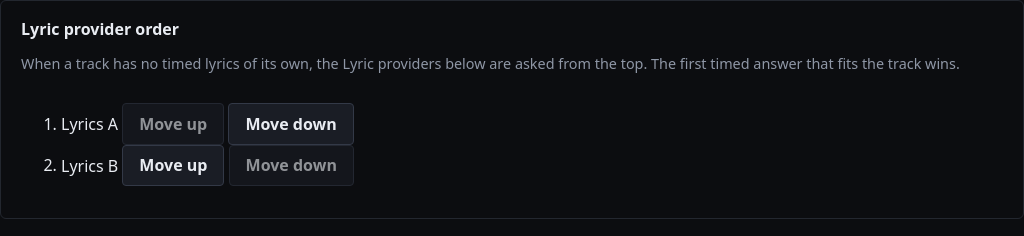
Test: LyricProviderOrder › moves a provider up and saves the whole order
Click the button with test id "lyric-order-up-lrc-b": [173, 165] box top-left (122, 144), bottom-right (224, 186)
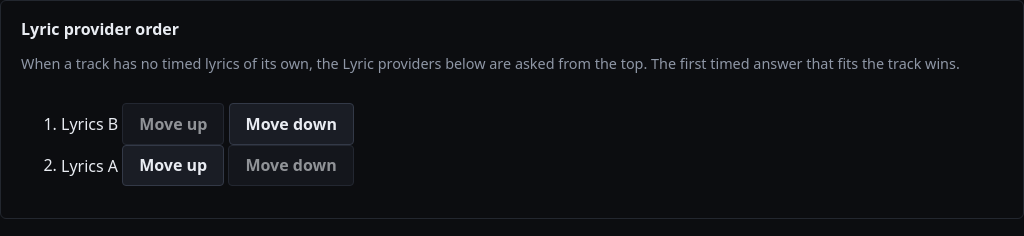
Expected: the list item "Lyrics B Move up Move down" is shown, top-left (61, 103), bottom-right (354, 144)
Expected: the button with test id "lyric-order-up-lrc-b" is disabled, top-left (122, 103), bottom-right (224, 144)
Expected: the button with test id "lyric-order-down-lrc-a" is disabled, top-left (228, 144), bottom-right (354, 186)
